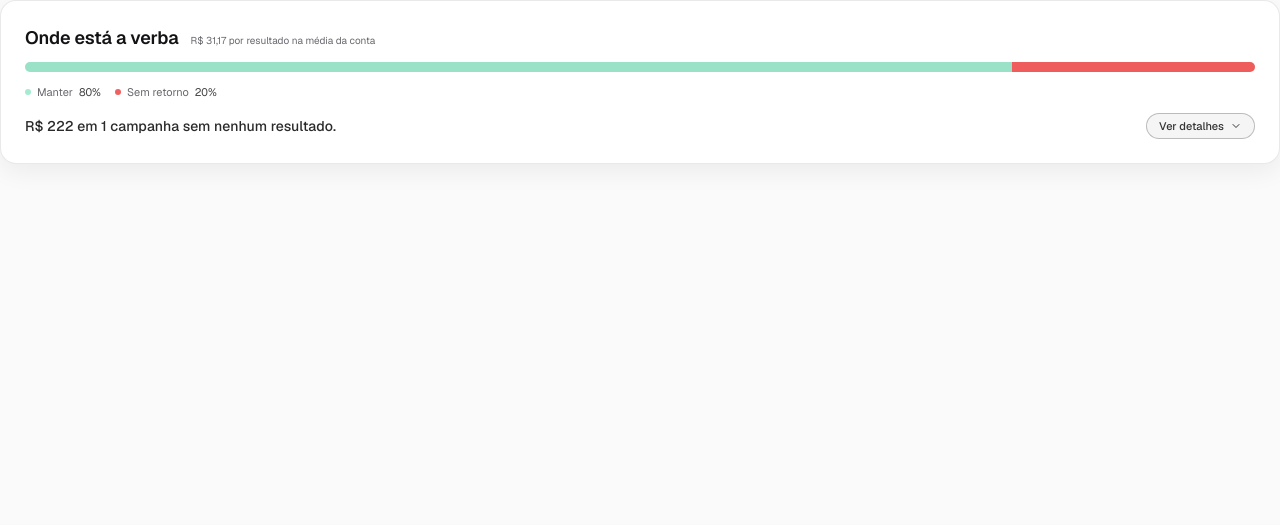
Scenario: o detalhe das faixas › diz QUAIS campanhas estão sem retorno, não só quantas
What coordinates should you click on to do the following:
click the button "Ver detalhes"
I would click on:
 (1200, 126)
Its box is [1146,113,1255,139].
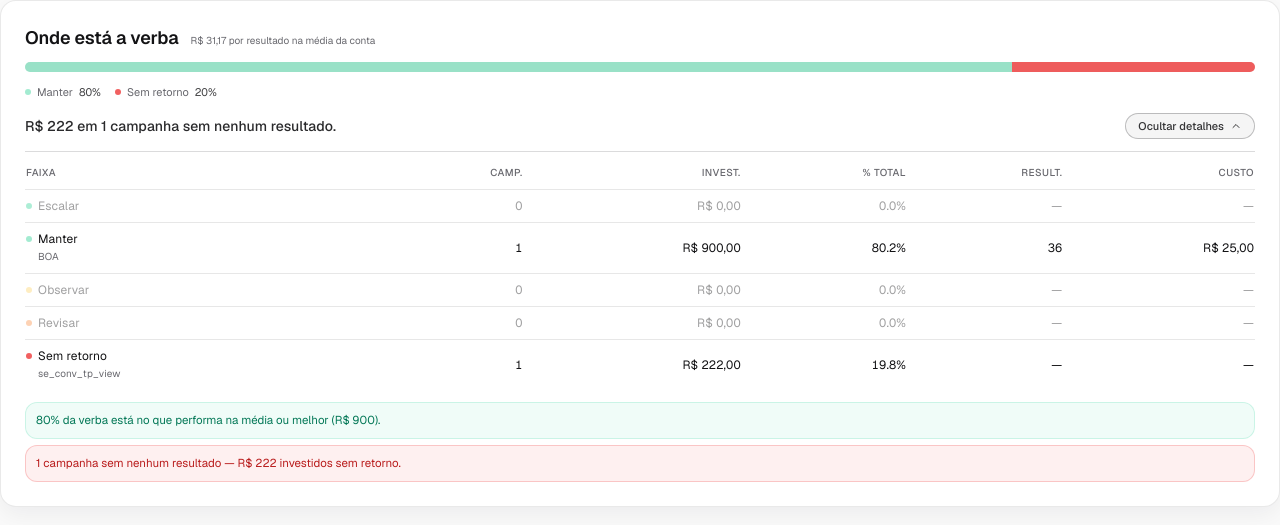
expect the text "se_conv_tp_view" is shown: met, box [38,367,120,380]
